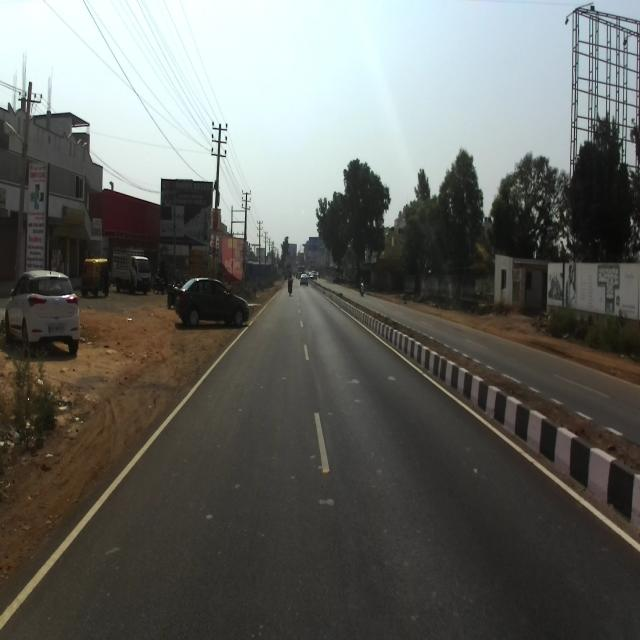car: (4, 268, 80, 355), (173, 276, 249, 328)
